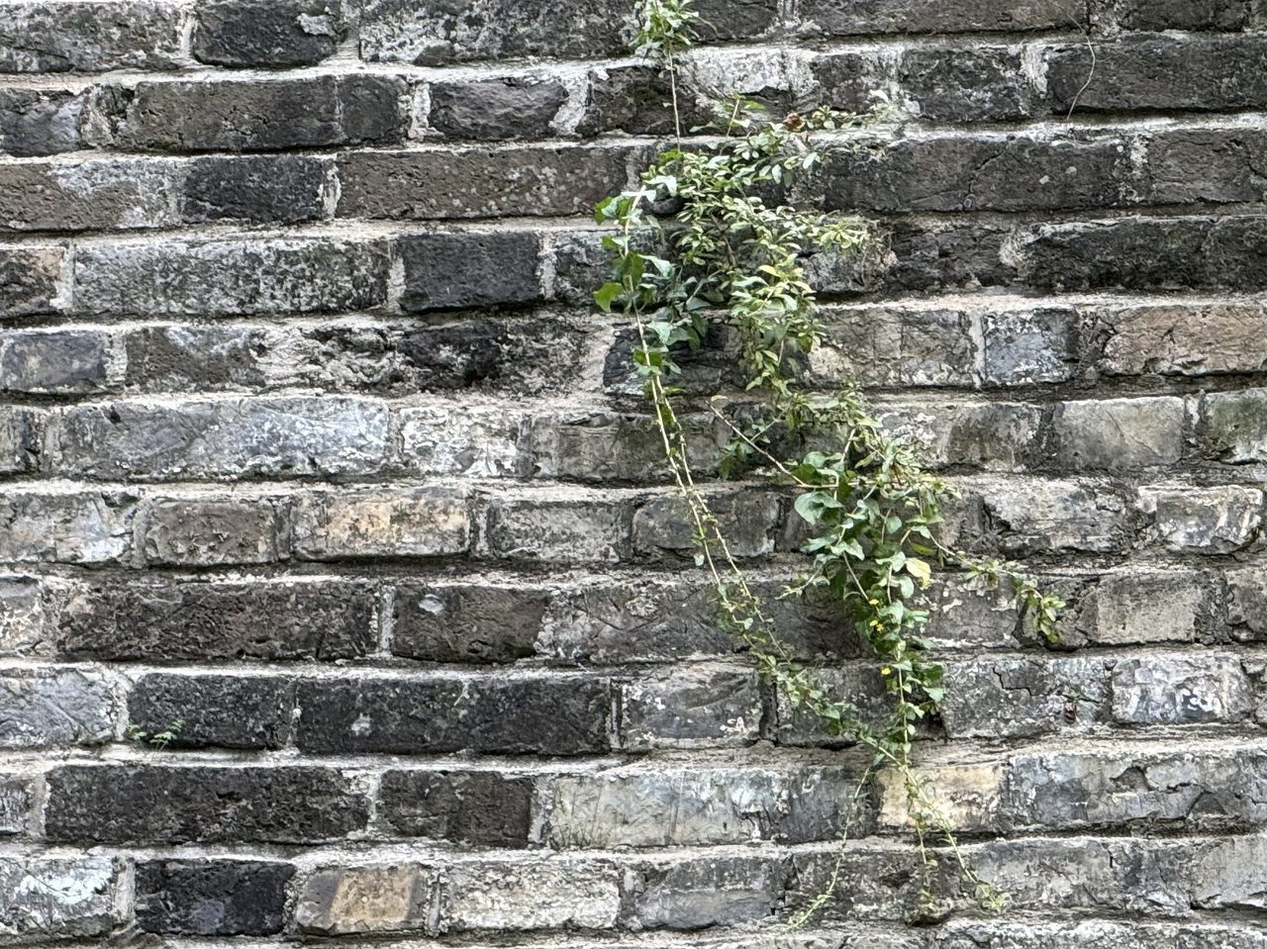vegetation: (585, 1, 892, 480), (720, 391, 1002, 898), (986, 553, 1078, 665)
